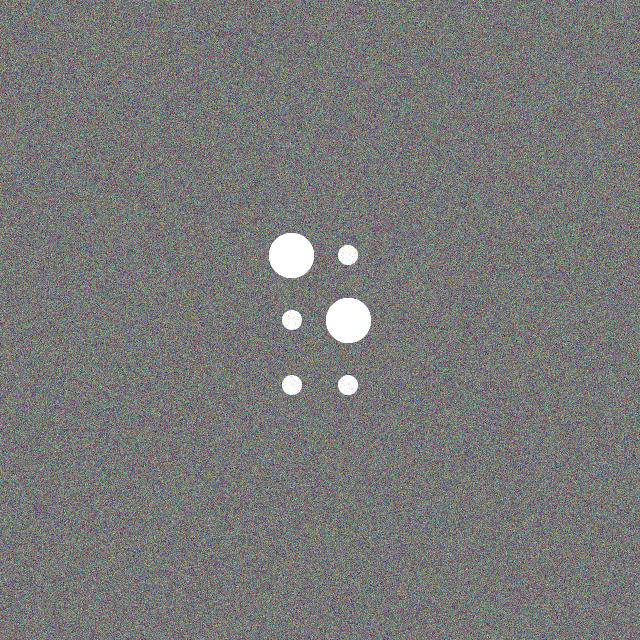E: (266, 230, 376, 414)
